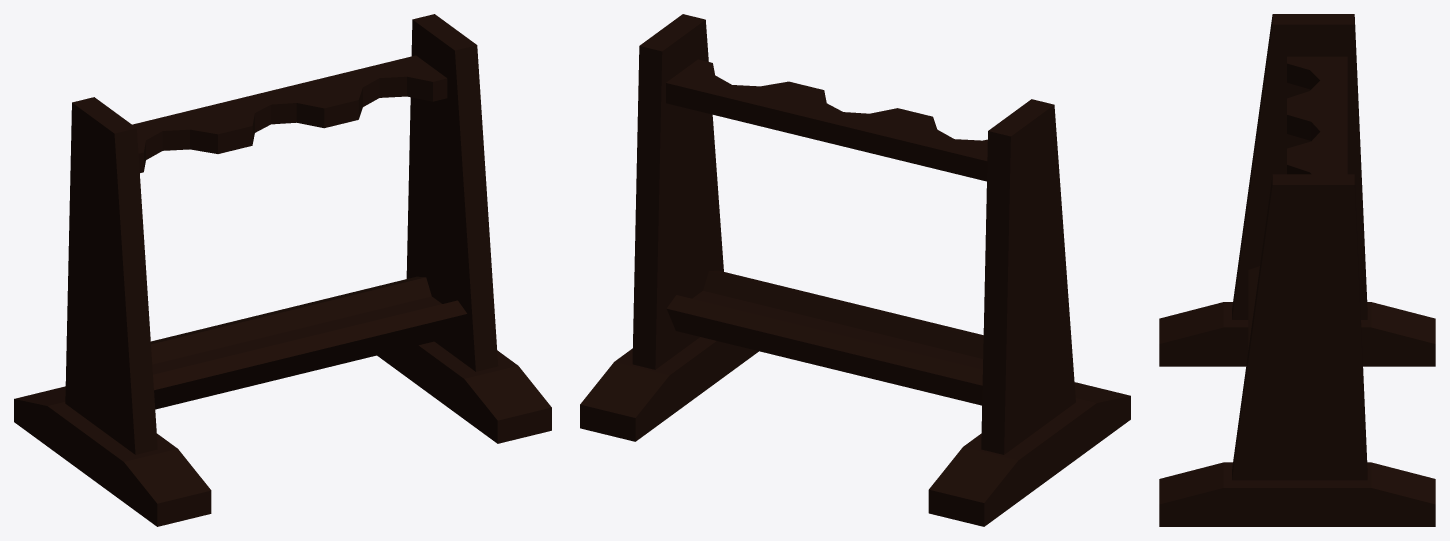
File: rackSmall.obj
3 views of the same model, side by side, from view 1: azimuth 30°, elevation 25°; view 2: azimuth 150°, elevation 25°; view 3: azimuth 270°, elevation 25° (orthographic). The views are drawn at different scales.
Parts seen in each view (by area): view 1: WeaponRack_Small_Cube.930; view 2: WeaponRack_Small_Cube.930; view 3: WeaponRack_Small_Cube.930.
Part boxes in pixels (x1=…): WeaponRack_Small_Cube.930: x1=14, y1=14, x2=551, y2=526; WeaponRack_Small_Cube.930: x1=580, y1=14, x2=1130, y2=526; WeaponRack_Small_Cube.930: x1=1159, y1=14, x2=1435, y2=526.
Bounding box in the file's own units: 1.16 × 0.9728 × 0.7286.
